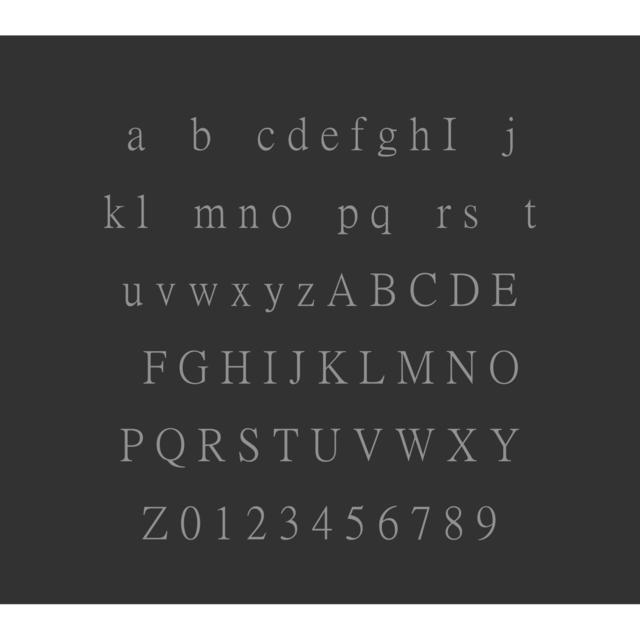alphabet: (396, 429, 436, 462), (156, 429, 188, 470), (219, 348, 252, 384), (445, 349, 477, 384), (410, 271, 440, 308), (317, 349, 348, 384), (487, 349, 518, 384), (447, 429, 478, 464), (398, 349, 428, 384), (489, 429, 519, 464), (352, 429, 382, 463), (178, 348, 206, 384), (356, 349, 384, 385), (450, 273, 479, 307), (197, 429, 224, 464), (273, 429, 299, 464), (331, 272, 356, 307), (142, 507, 166, 542), (143, 348, 166, 384), (179, 506, 201, 542), (122, 429, 145, 463), (477, 505, 497, 542), (190, 281, 219, 306), (246, 506, 266, 542), (412, 506, 432, 542), (240, 428, 260, 464), (196, 204, 225, 228), (287, 117, 306, 153), (372, 204, 391, 235), (412, 118, 429, 152), (443, 117, 459, 153), (314, 506, 329, 542), (264, 348, 279, 383), (266, 282, 284, 311), (352, 117, 366, 152), (290, 349, 304, 384), (272, 205, 292, 229), (238, 204, 257, 228), (232, 282, 251, 306), (216, 507, 229, 542), (320, 128, 338, 152), (158, 282, 176, 306), (422, 348, 434, 383), (296, 283, 314, 306)
